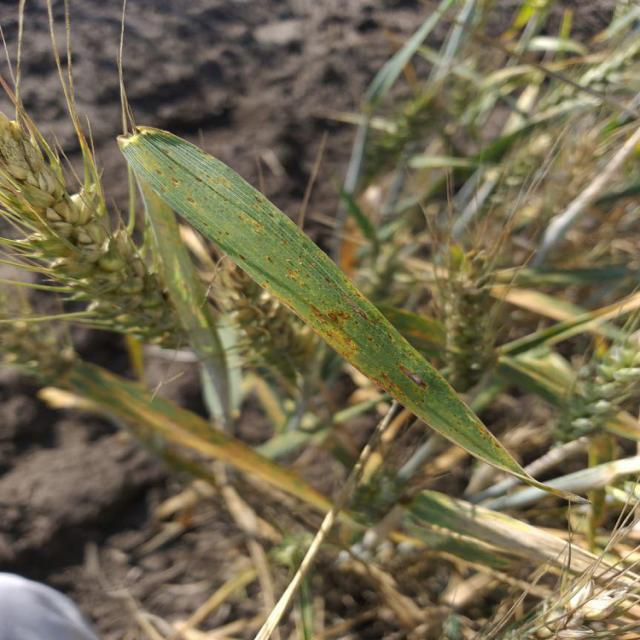wheat-septoria: (118, 127, 529, 481)
